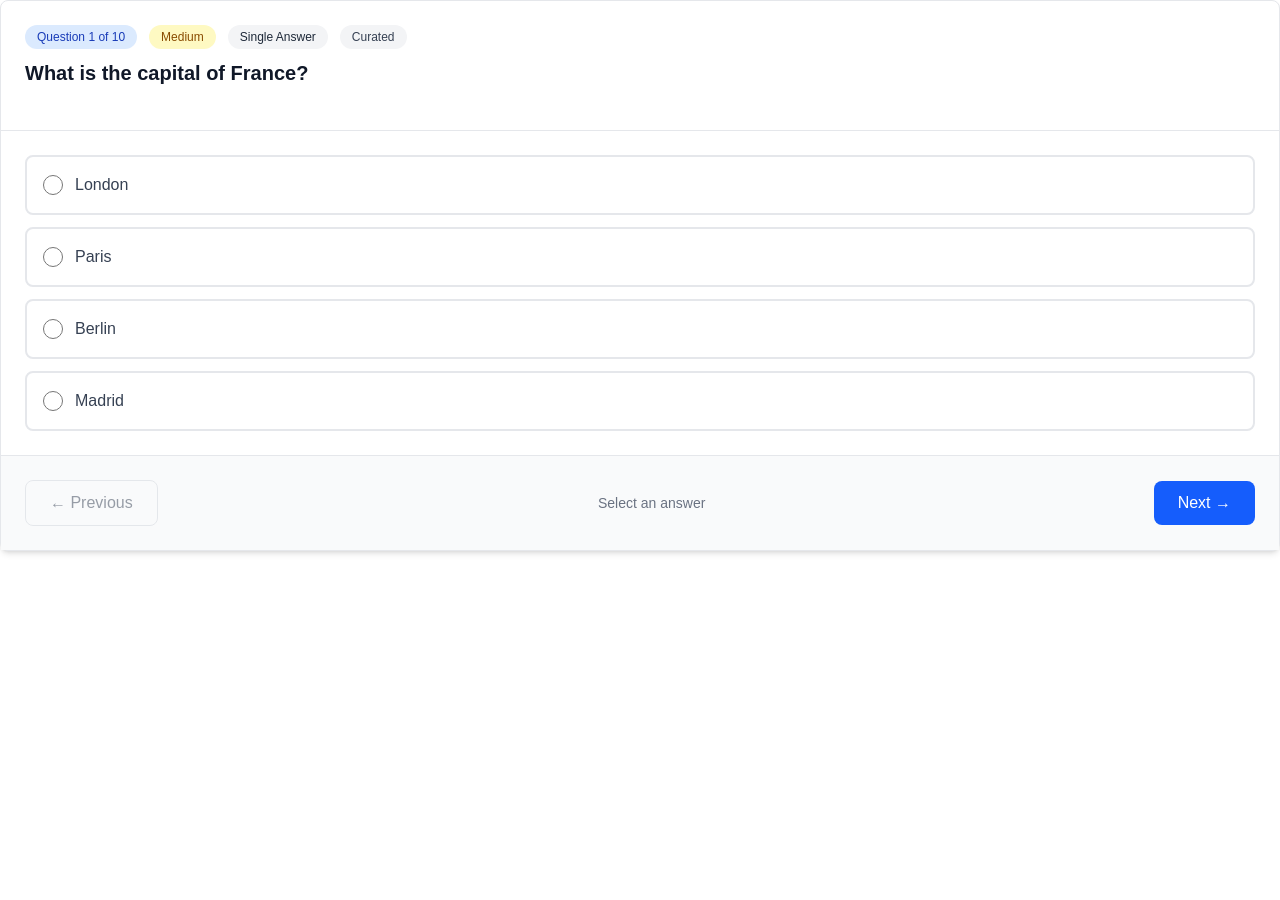
QuestionCard › Immediate feedback modality › reveals correct/incorrect and the explanation after answering in immediate mode
This screenshot has width=1280, height=900.
Answer the question (correct answer is 'b' / Paris).
Click the radio button labelled "Paris". click: (53, 256)
box: [43,246,63,266]
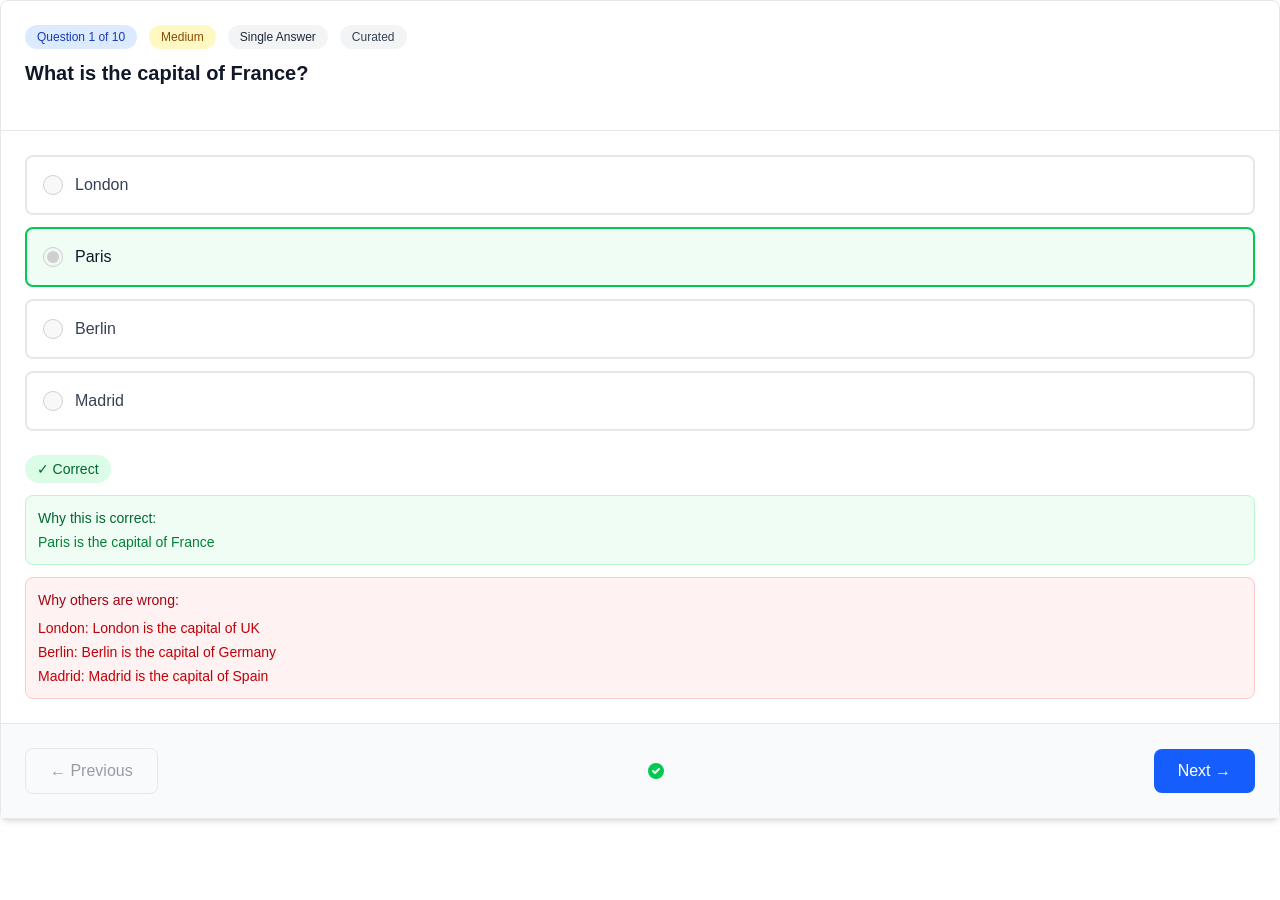
Result: the text "Paris is the capital of France" is shown at [38,534,215,550]
Result: the text "✓ Correct" is shown at [25,454,110,482]
